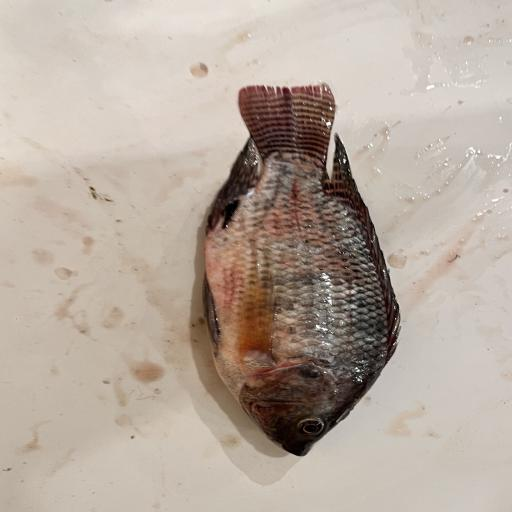Tilapia: (203, 82, 401, 457)
